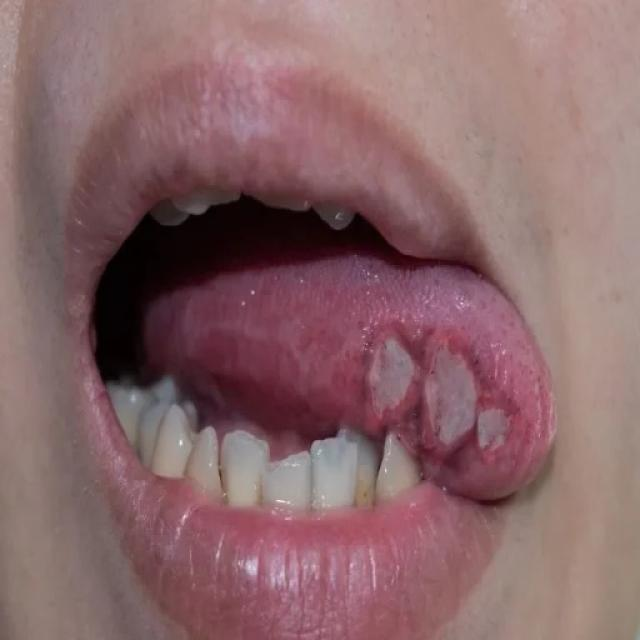cancer-detection: (302, 309, 542, 497)
processing_area: (145, 259, 560, 503)
